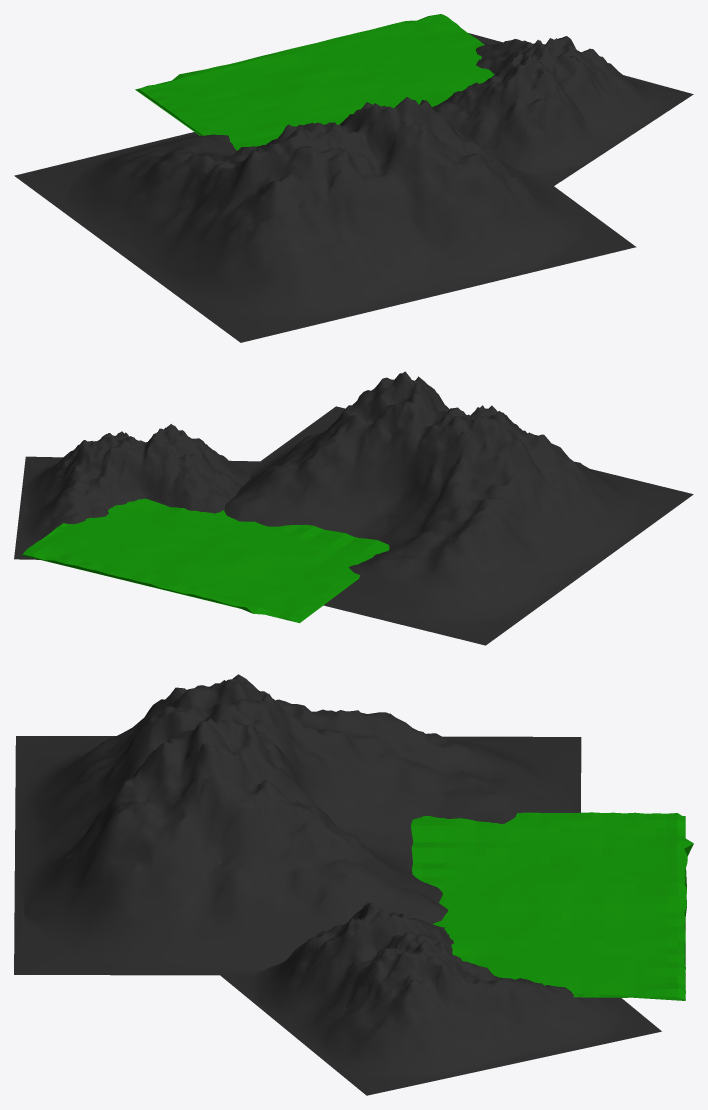
File: BosqueTerreno.fbx
3 views of the same model, one above another, from view 1: azimuth 30°, elevation 25°; view 2: azimuth 150°, elevation 25°; view 3: azimuth 270°, elevation 25° (orthographic). The views are drawn at different scales.
Parts seen in each view (by area): view 1: Landscape.002, Cube.025, Landscape.001; view 2: Landscape.002, Cube.025, Landscape.001; view 3: Landscape.002, Cube.025, Landscape.001.
Boxes of the visible parts, <box> form: Landscape.002: <box>14,97,636,342</box>; Cube.025: <box>135,14,494,150</box>; Landscape.001: <box>432,33,693,185</box>; Landscape.002: <box>224,371,693,645</box>; Cube.025: <box>22,498,389,623</box>; Landscape.001: <box>14,424,259,559</box>; Landscape.002: <box>14,674,581,975</box>; Cube.025: <box>411,812,693,1000</box>; Landscape.001: <box>220,902,661,1095</box>.
Size of the model in its own units: 203293 by 42838 by 162377.
